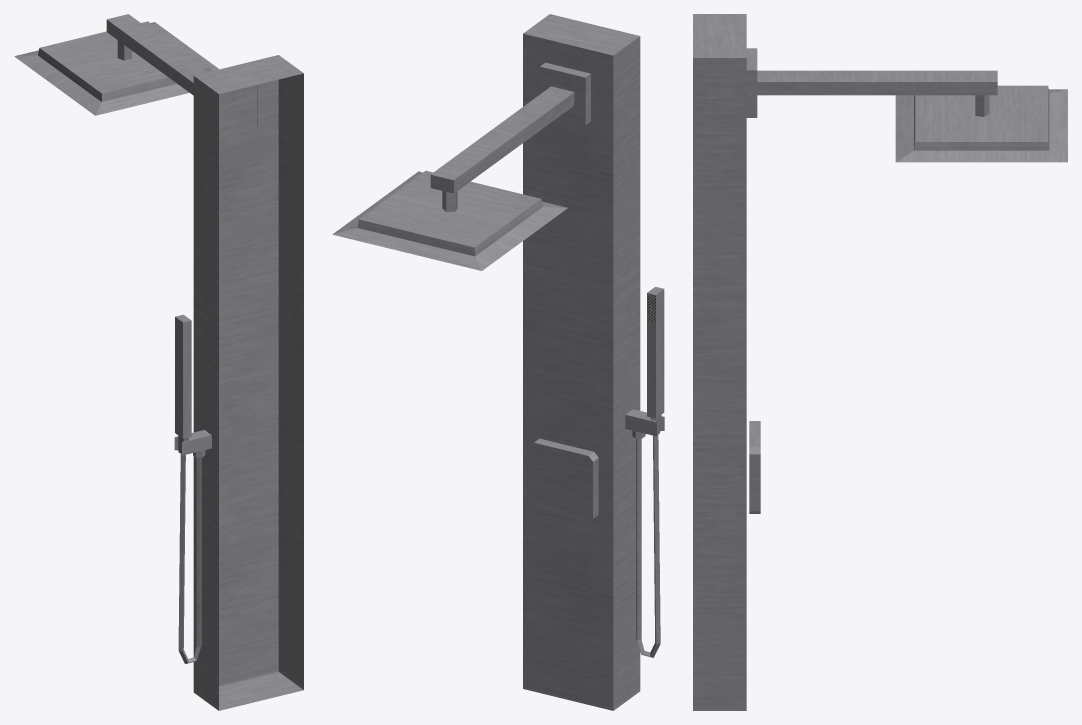
File: Watering_can_06.glb
3 renders of one model, left to right at view 1: azimuth 30°, elevation 25°; view 2: azimuth 150°, elevation 25°; view 3: azimuth 270°, elevation 25°, orthographic. The views are drawn at different scales.
Visible parts, largest first — view 1: Watering_can_06; view 2: Watering_can_06; view 3: Watering_can_06.
Boxes of the visible parts, x1,y1,x2,y2 form: Watering_can_06: [14, 14, 303, 710]; Watering_can_06: [332, 14, 664, 710]; Watering_can_06: [693, 14, 1067, 710].
Bounding box in the file's own units: 0.372 × 1.53 × 0.7973.
2 materials, 2 textured.
